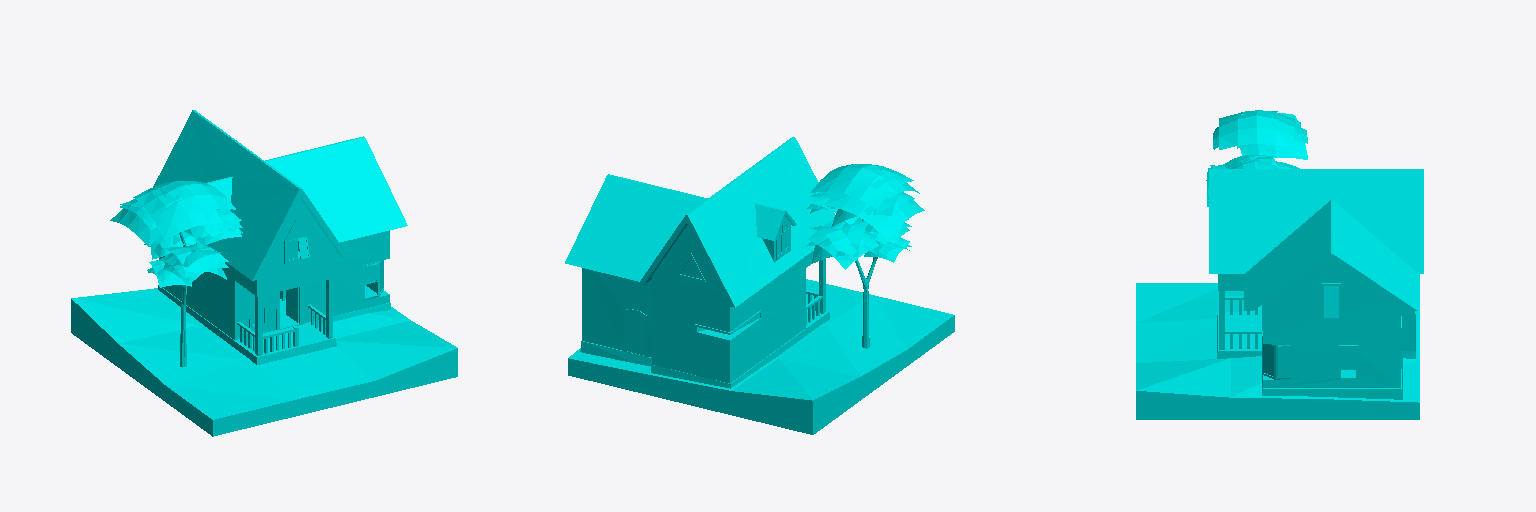
The model's file is home.obj.
3 renders of one model, left to right at view 1: azimuth 30°, elevation 25°; view 2: azimuth 150°, elevation 25°; view 3: azimuth 270°, elevation 25°, orthographic.
Parts seen in each view (by area): view 1: Body_Cube.002; view 2: Body_Cube.002; view 3: Body_Cube.002.
Boxes of the visible parts, <box> form: Body_Cube.002: <box>71,110,457,436</box>; Body_Cube.002: <box>565,137,954,434</box>; Body_Cube.002: <box>1136,110,1423,419</box>.
Bounding box in the file's own units: 1.42 × 1.01 × 1.31.